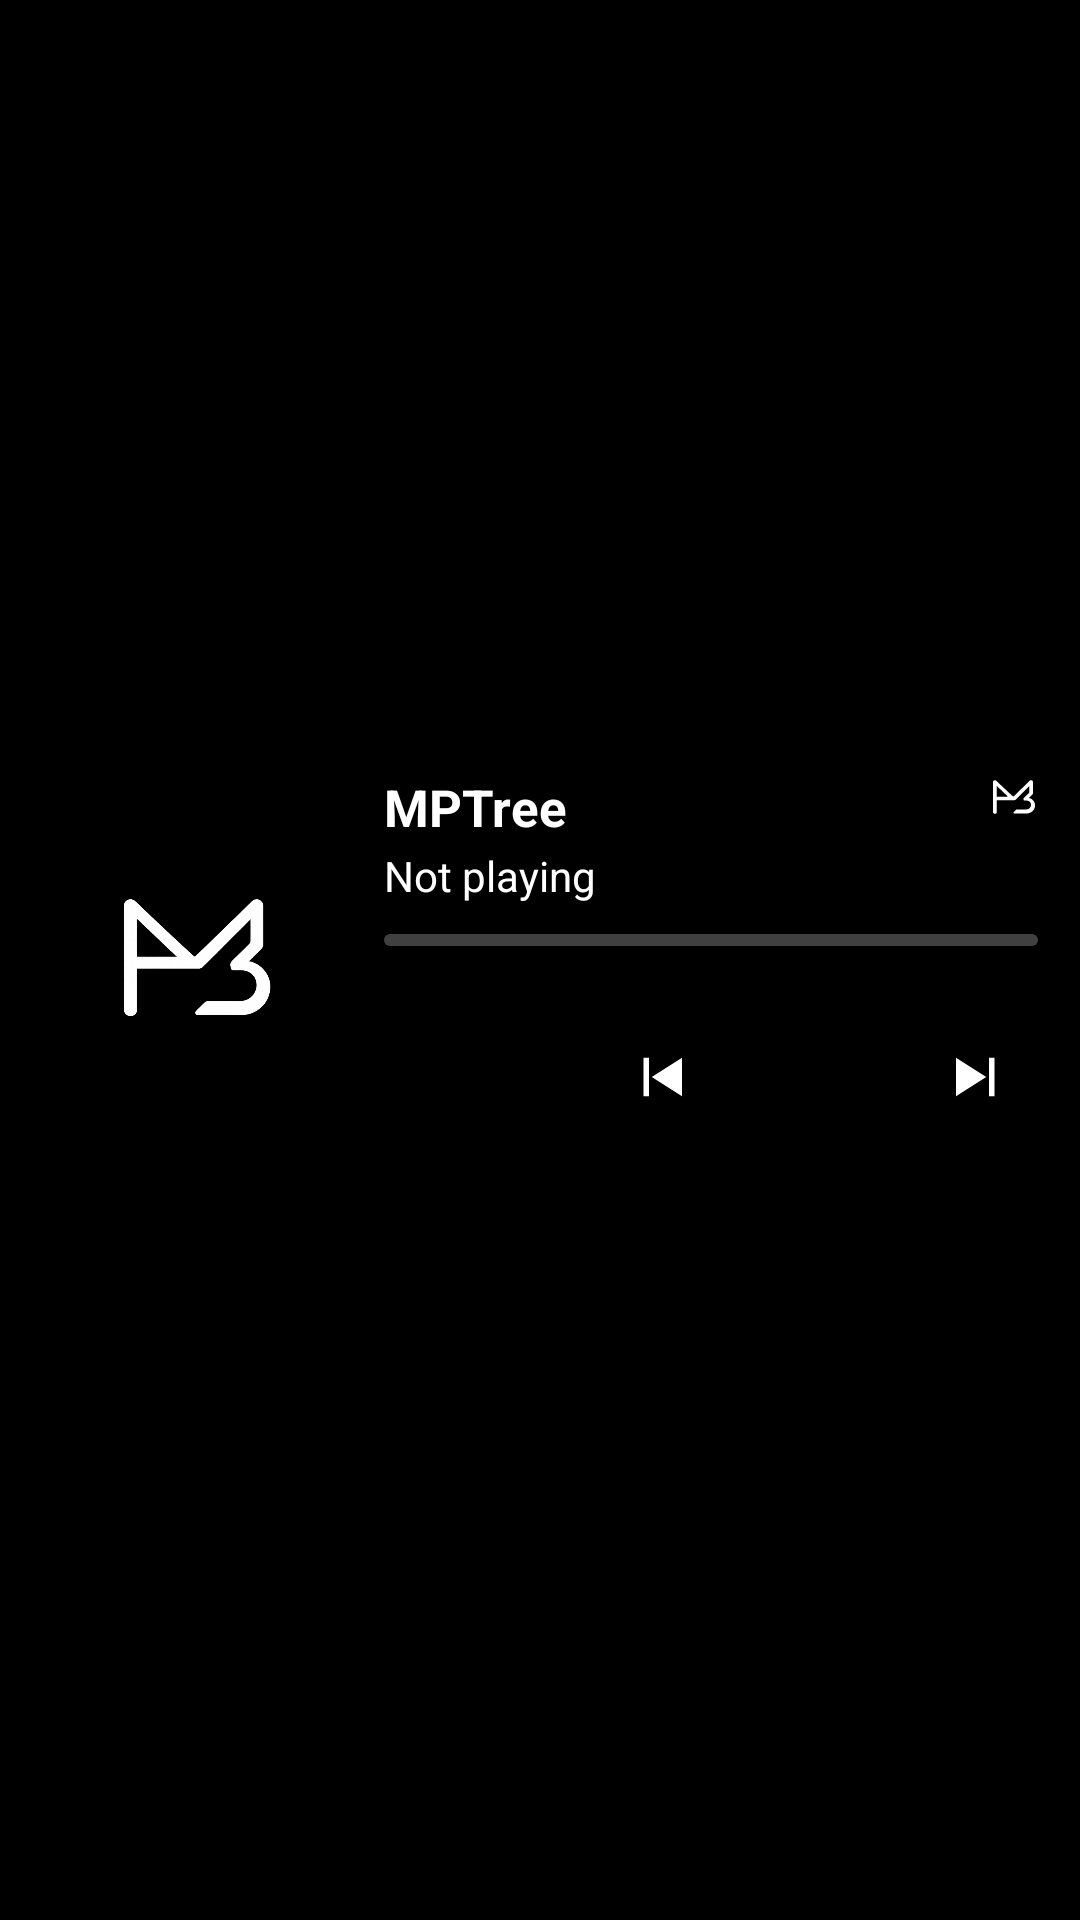

Named icons in this screenshot (1080w x 1920h) and their bounding boxes, {"x1": x1, "y1": y1, "x2": x2, "y2": y2}:
Next: {"x1": 956, "y1": 1057, "x2": 995, "y2": 1097}
Previous: {"x1": 643, "y1": 1057, "x2": 682, "y2": 1097}
